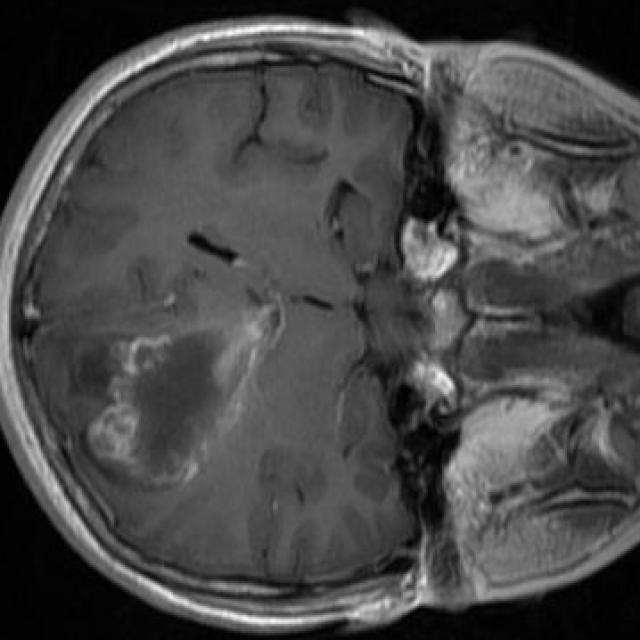glioma: (71, 305, 285, 490)
